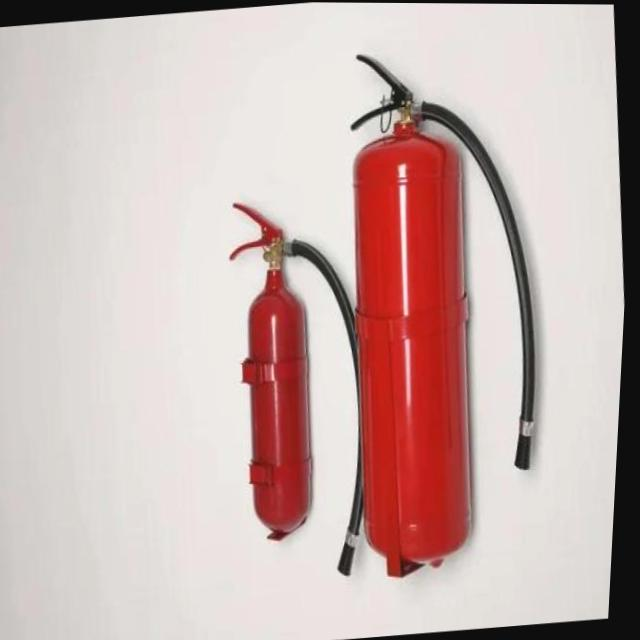FireExtinguisher: (317, 31, 573, 580), (209, 185, 399, 592)
